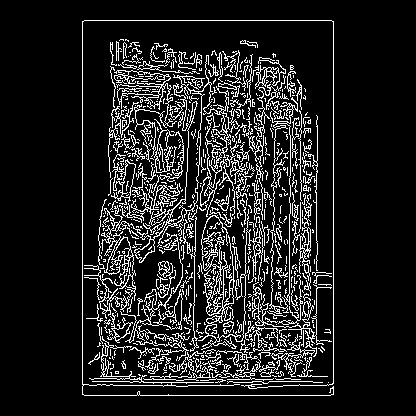buddha-horse-riding: (87, 170, 150, 189)
